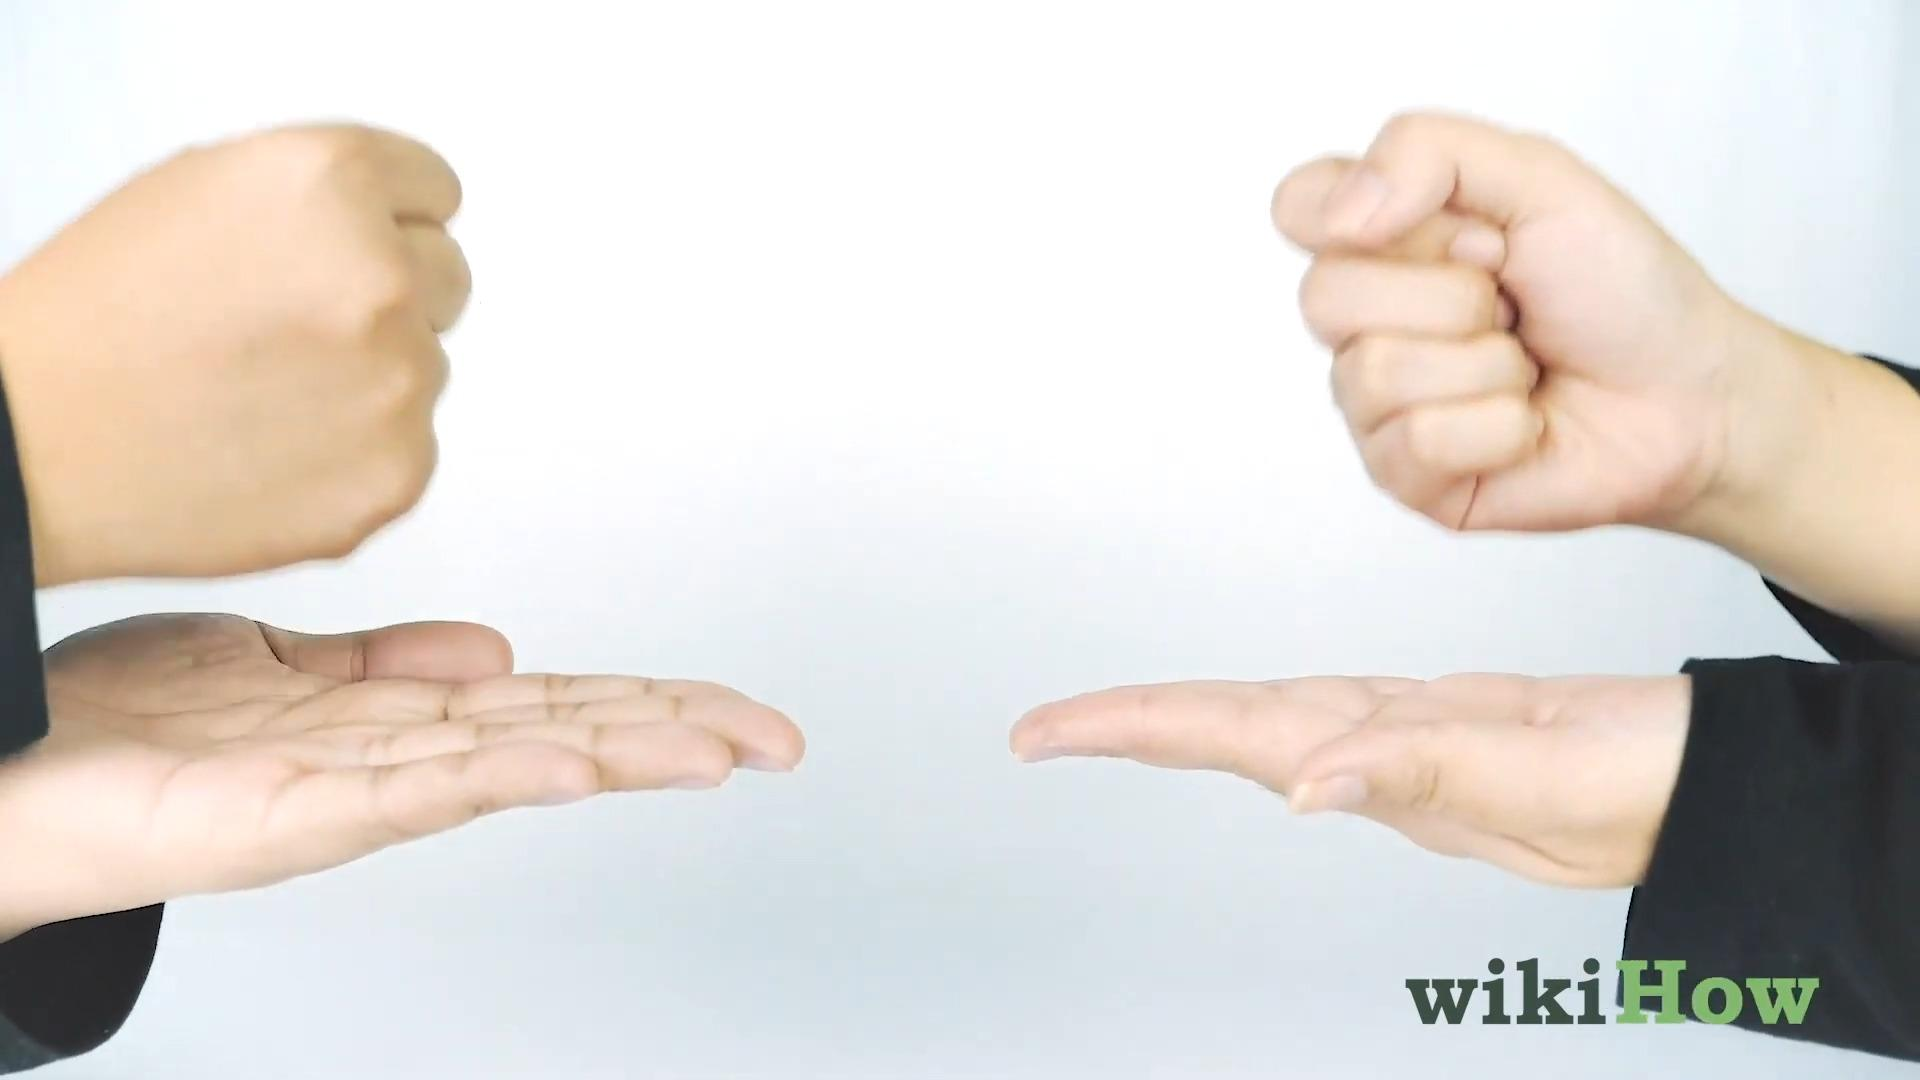Scissors: (0, 123, 472, 593), (1273, 112, 1724, 550)
